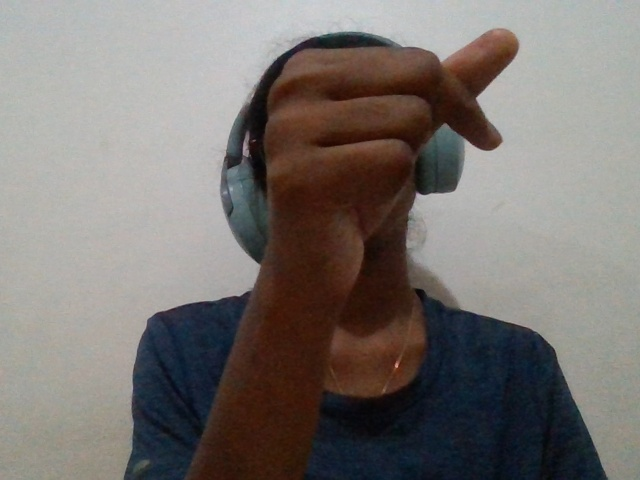G: (237, 20, 558, 342)
